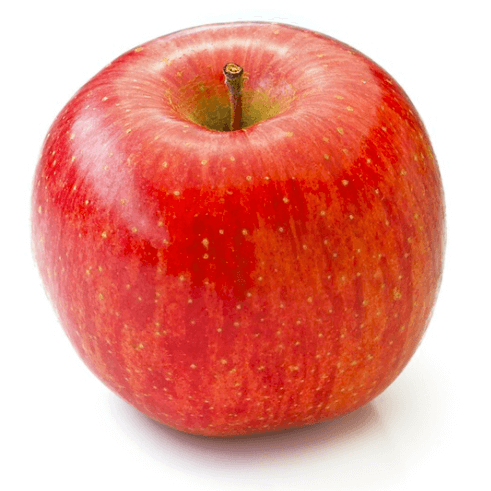apple: (30, 20, 449, 442)
